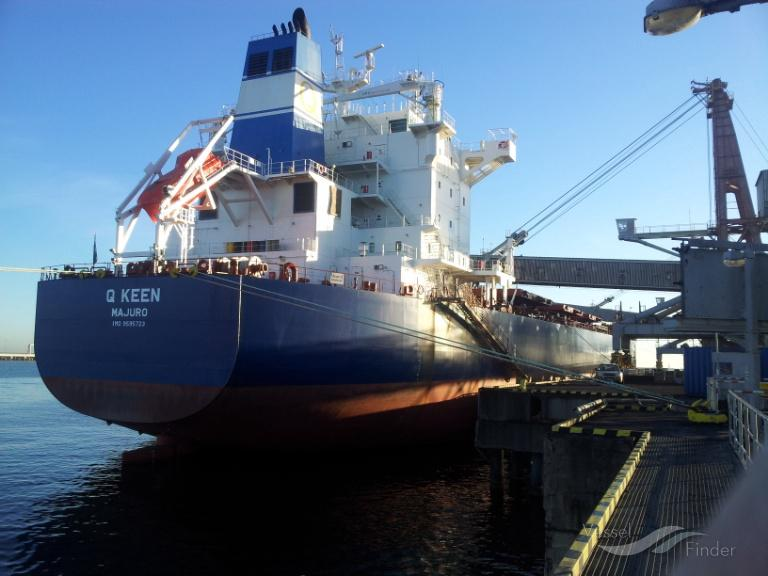OCR: (98, 282, 172, 334)
